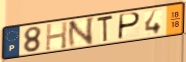4: (144, 8, 164, 36)
8: (22, 25, 43, 53)
H: (44, 20, 69, 52)
N: (67, 16, 96, 50)
P: (117, 11, 142, 41)
T: (96, 13, 115, 44)
